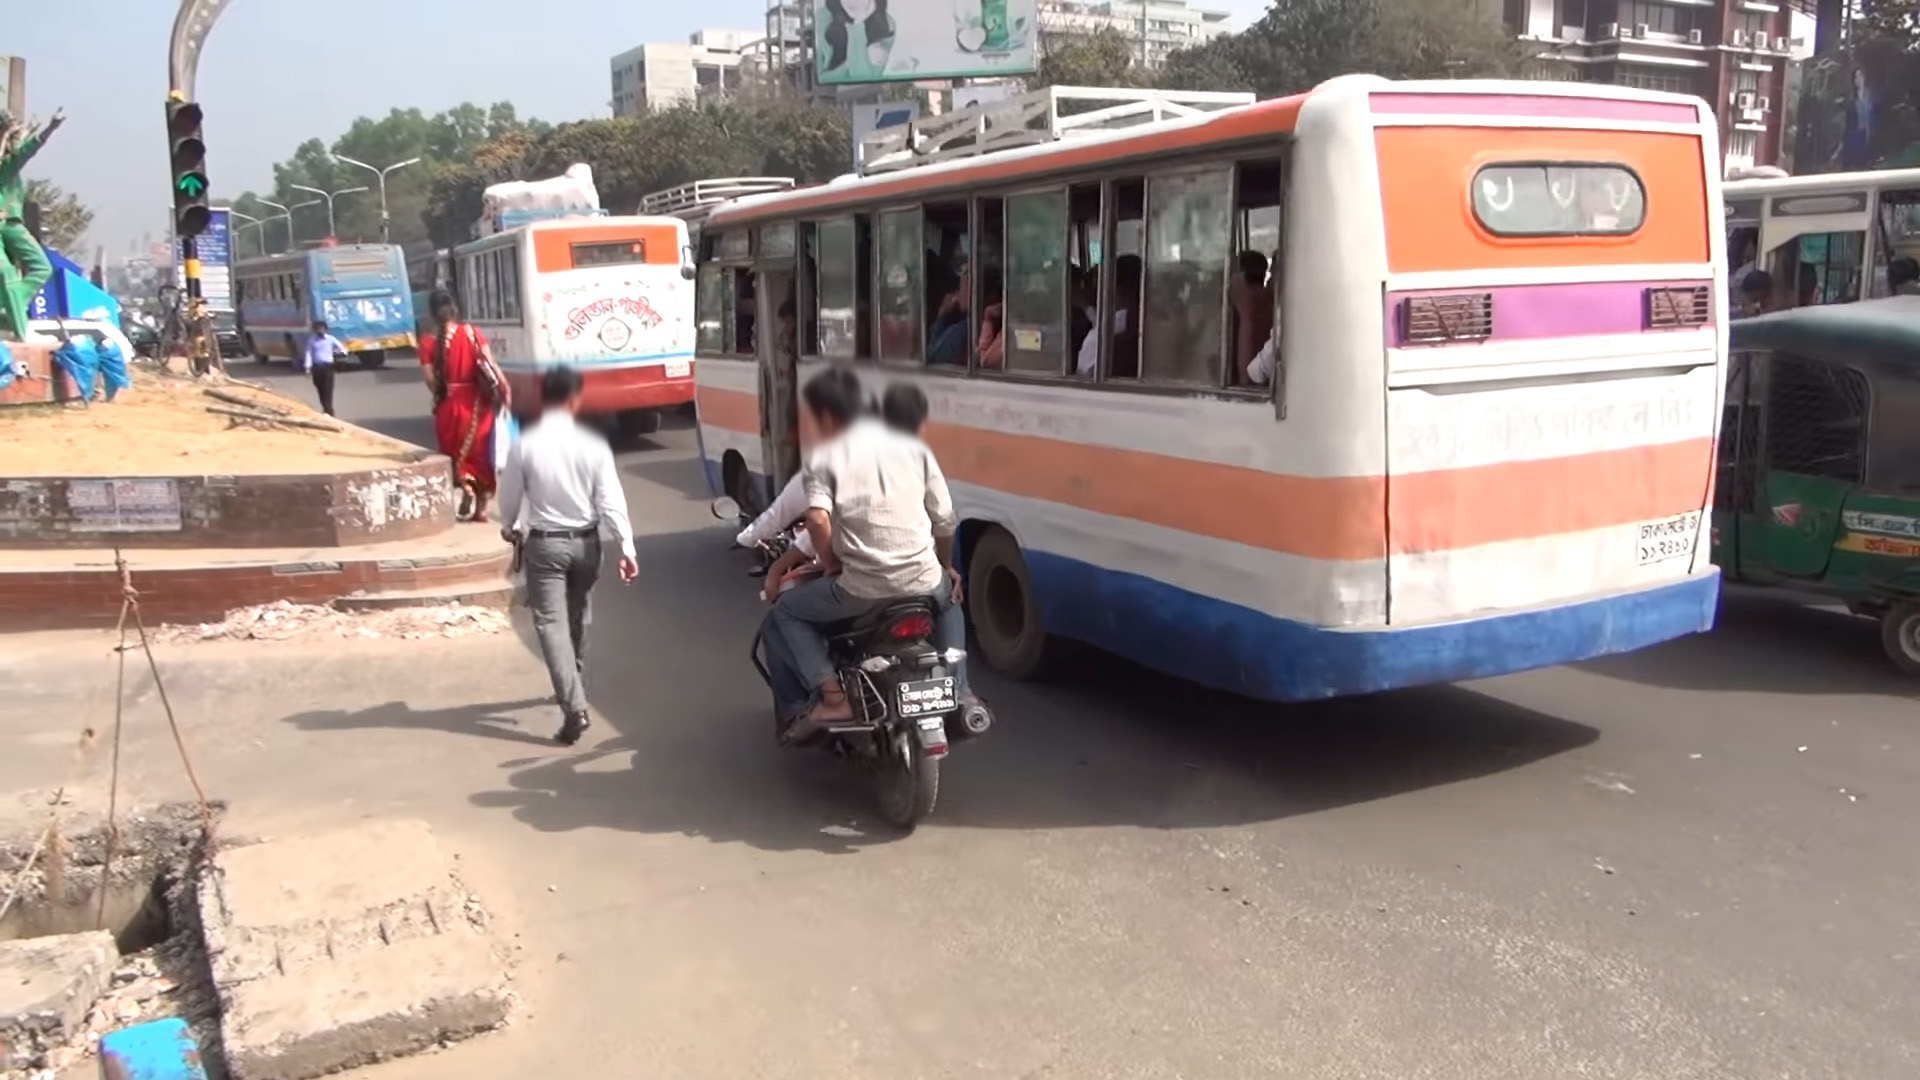bike: (709, 489, 997, 822)
bus: (680, 76, 1727, 702), (433, 212, 692, 436), (1731, 166, 1917, 316), (236, 243, 419, 372)
cng: (1716, 297, 1920, 675)
